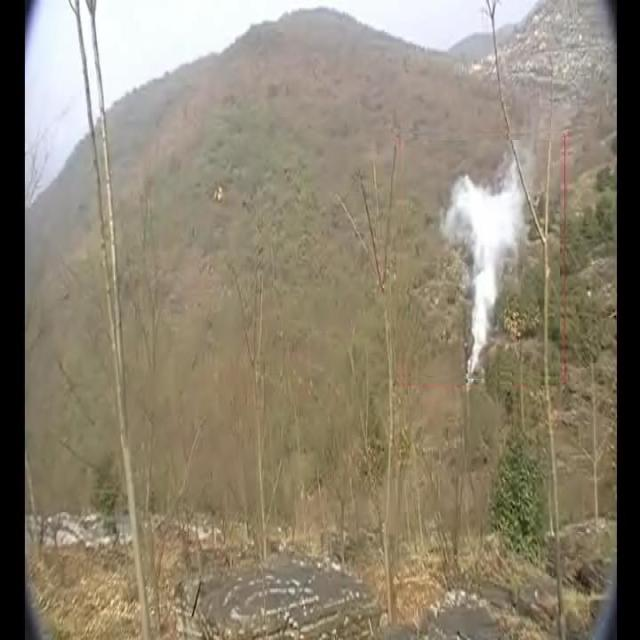smoke: (440, 139, 535, 388)
